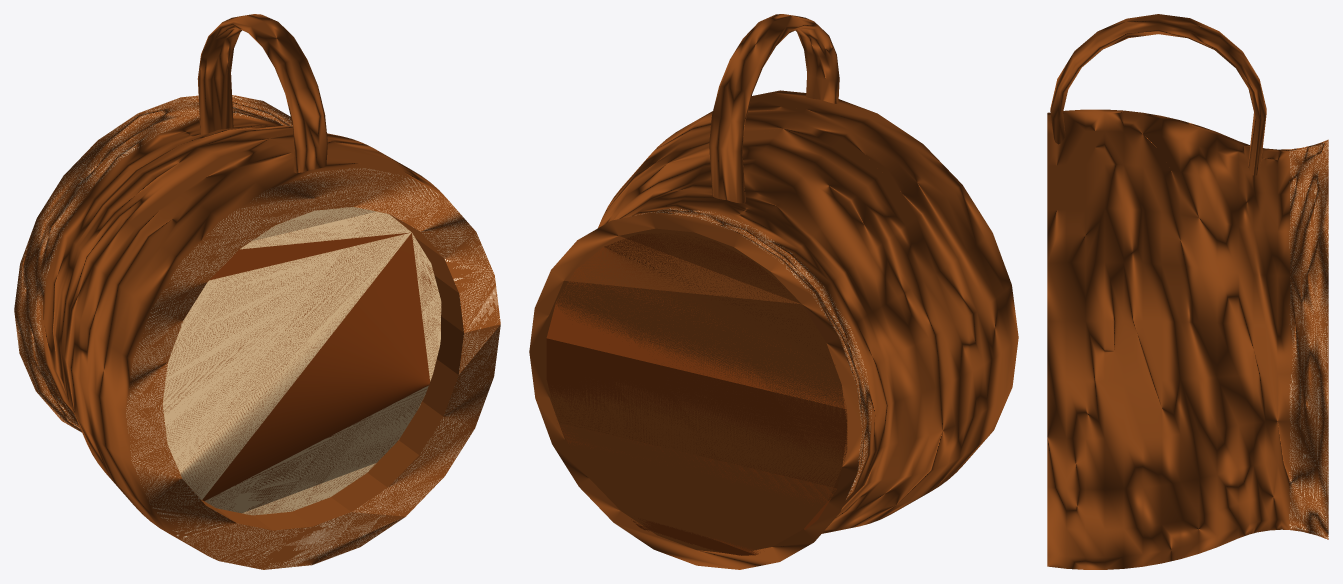
The model's file is model_align.obj.
The picture shows the model from 3 angles, left to right: view 1: azimuth 30°, elevation 25°; view 2: azimuth 150°, elevation 25°; view 3: azimuth 270°, elevation 25°; orthographic projection. The views are drawn at different scales.
Size of the model in its own units: 0.0919 by 0.1168 by 0.0559.
